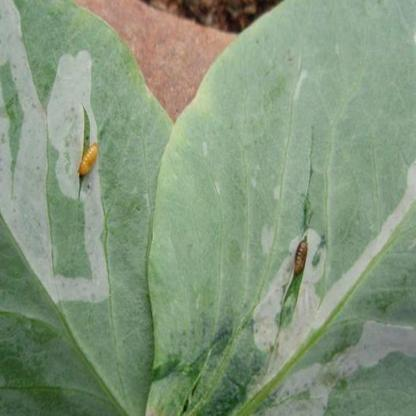whorl-maggot: (76, 138, 102, 180), (291, 234, 310, 285)
